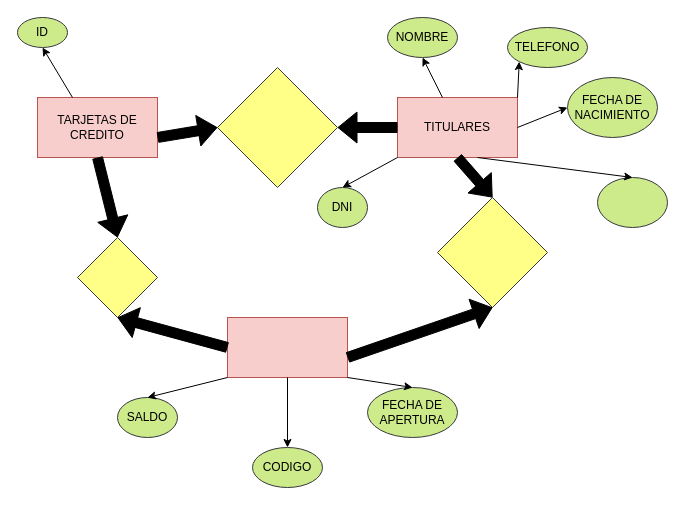
Image size: 685x505. Some labels were removed from this diagram. Here are the shapes that lost their labels. From the top down, the centre of each, then its label:
At [277,127]: "UNICO PROPIETARIO".
At [632,202]: "DOMICILIO".
At [492,252]: "PERTENECE A UNA UNICA PERSONA".
At [117,277]: "ASOCIADA".
At [287,347]: "CUENTAS CORRIENTES".
